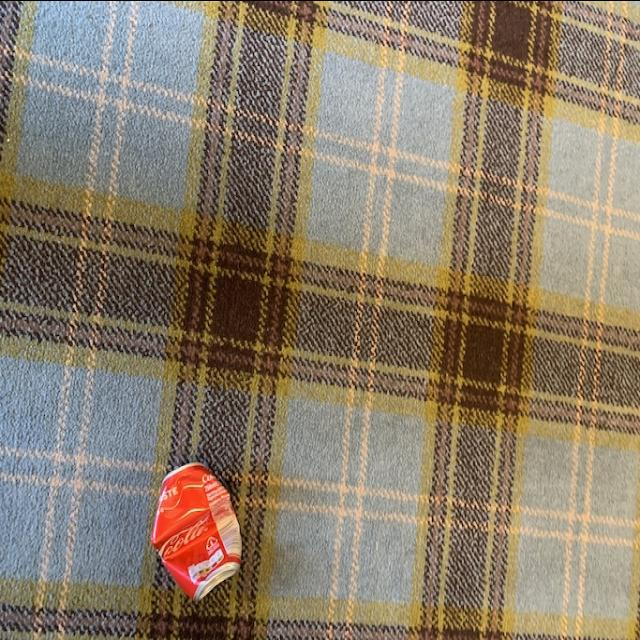litter: (151, 458, 245, 598)
